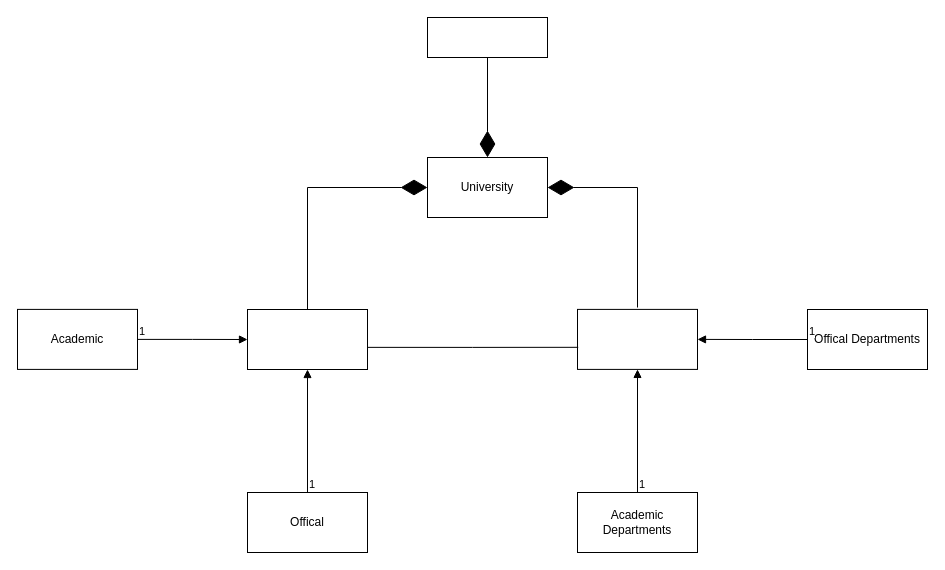
Some shapes in this 945 by 570 pixel diagram are drawn without their labels. Here are the shapes that lost their labels. From the top down, the centre of each, then its label:
At pixel 487 37: "Student".
At pixel 307 339: "Employees".
At pixel 637 338: "Departments".
